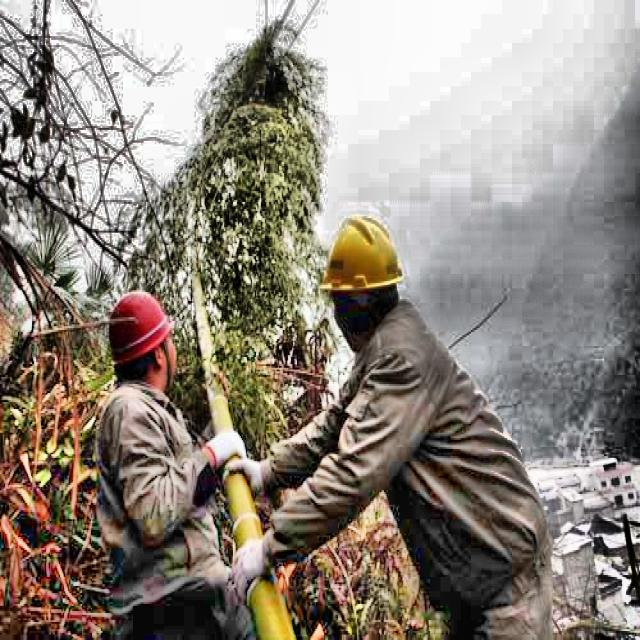helmet: (311, 198, 413, 344), (100, 279, 179, 396)
